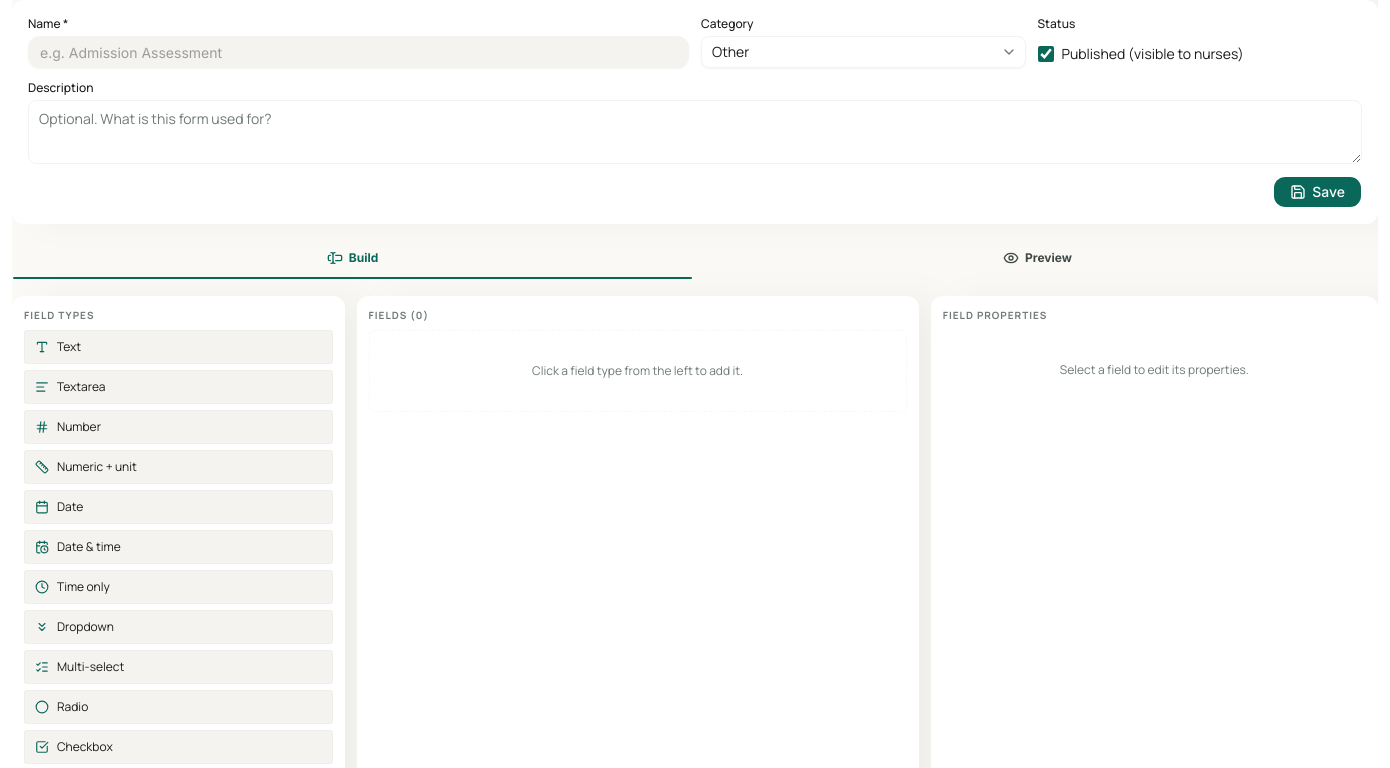
Test: number_unit in the builder › warns when the unit is cleared, because a measurement needs one
This screenshot has width=1390, height=768.
Click the button "Numeric + unit". click: (97, 467)
box: 24,450 -> 332,484
(page scrolled)
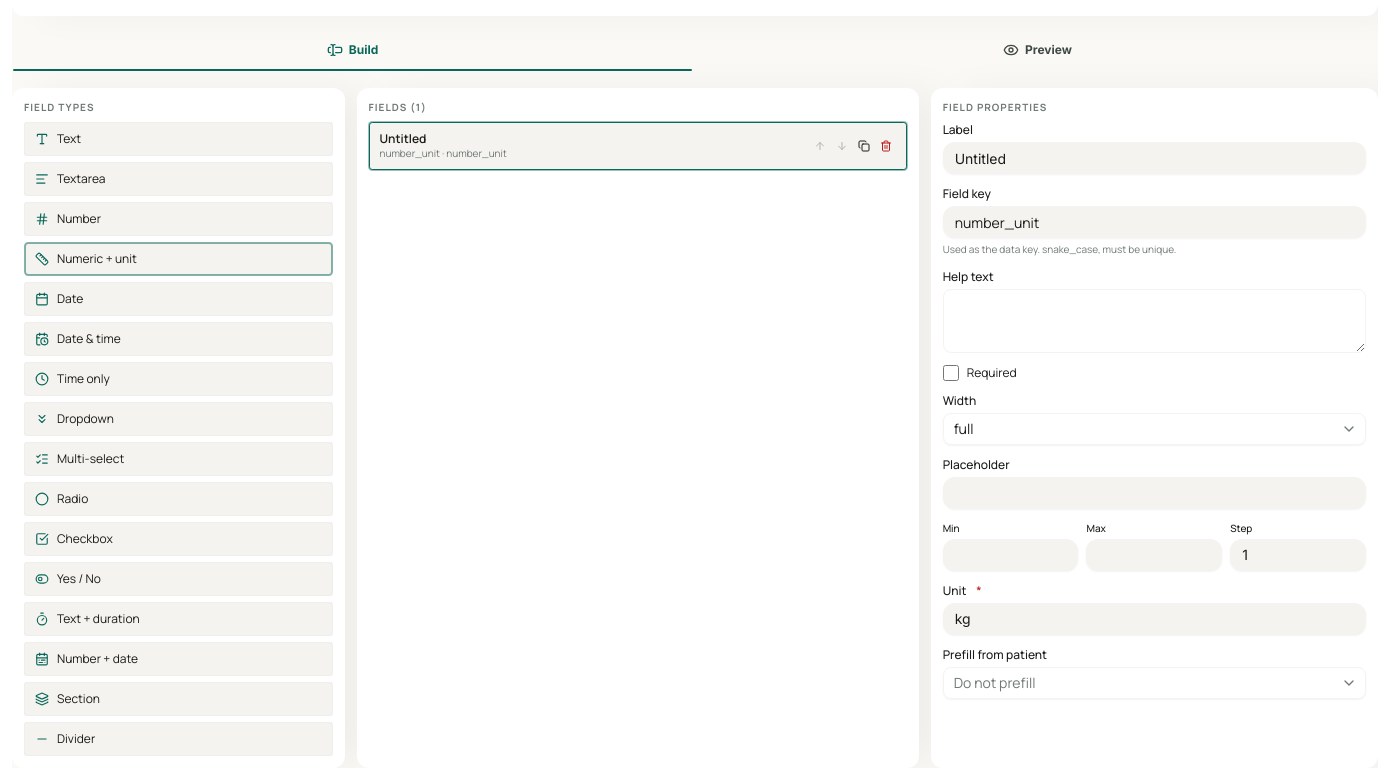
Clear the 4th field showing "kg". click: (1154, 619)
box: 943,603 -> 1366,635
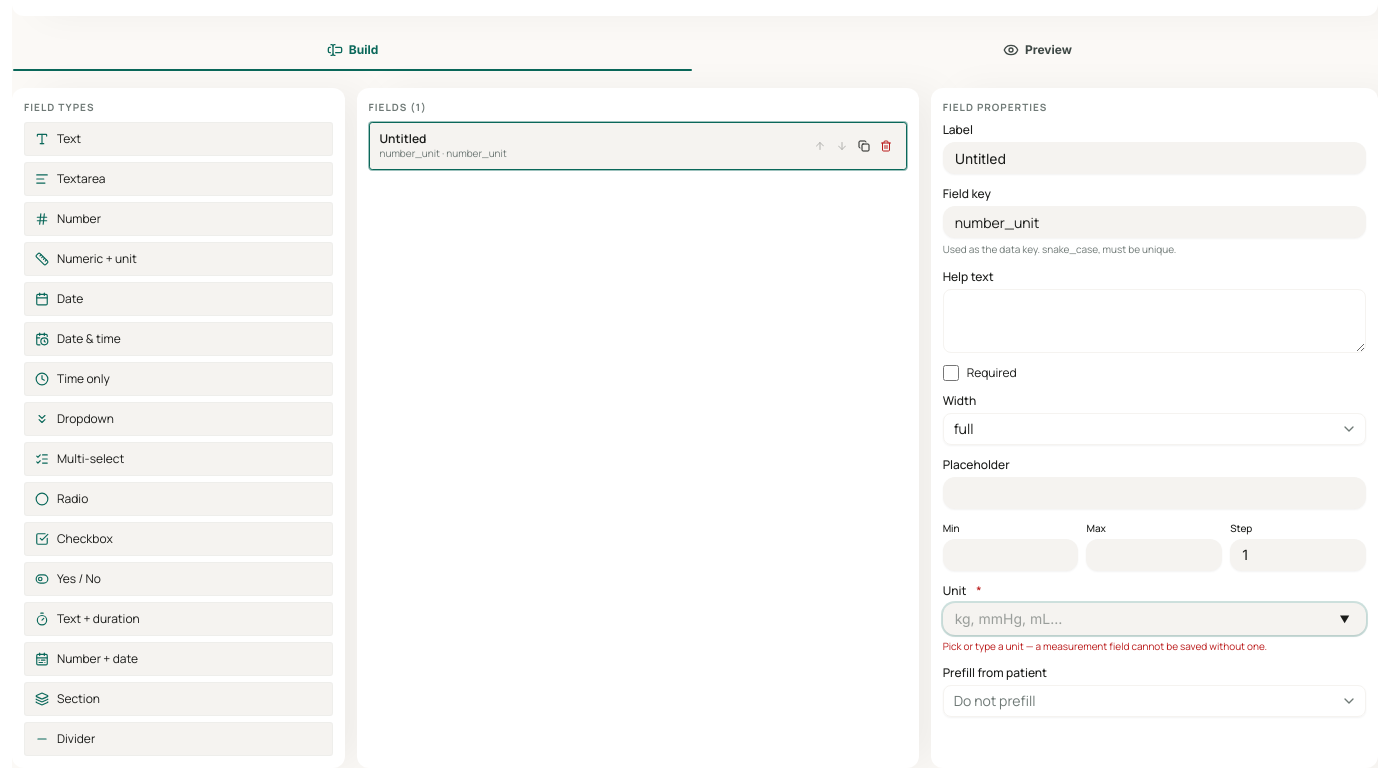
Now the text "cannot be saved without one" is shown, box 943,639 -> 1267,653
